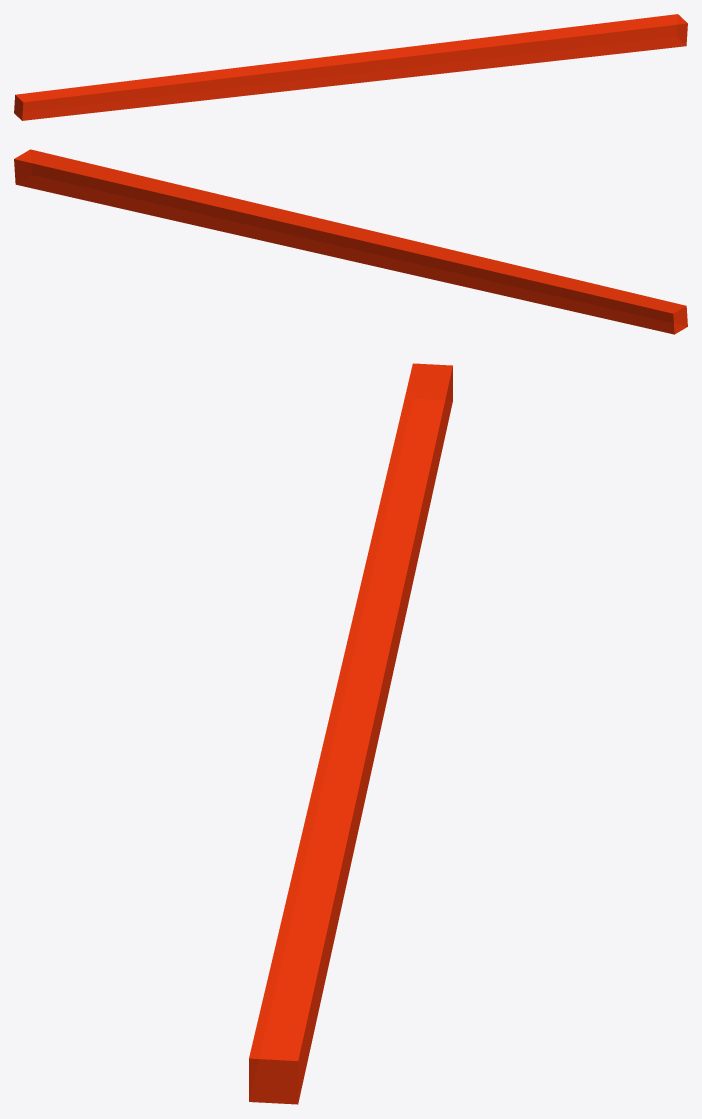
Rendered from Event_420094457_EErechit_57.fbx.
The picture shows the model from 3 angles, top to bottom: view 1: azimuth 30°, elevation 25°; view 2: azimuth 150°, elevation 25°; view 3: azimuth 270°, elevation 25°; orthographic projection. The views are drawn at different scales.
Parts seen in each view (by area): view 1: Model; view 2: Model; view 3: Model.
Boxes of the visible parts, x1,y1,x2,y2 form: Model: [14, 14, 687, 120]; Model: [14, 149, 687, 334]; Model: [249, 363, 452, 1104].
Bounding box in the file's own units: 2.6 × 0.2608 × 0.3667.
